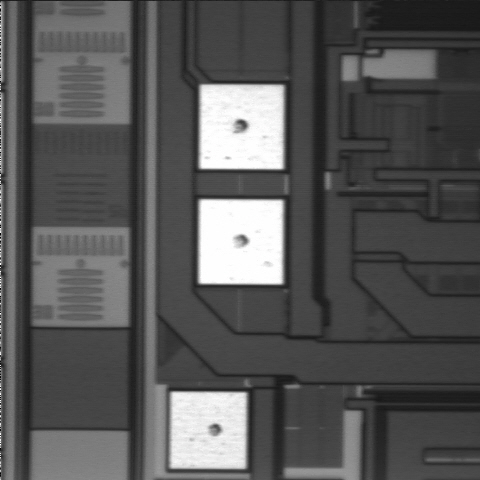pad: (199, 85, 284, 169), (199, 199, 283, 284), (170, 392, 247, 469)
